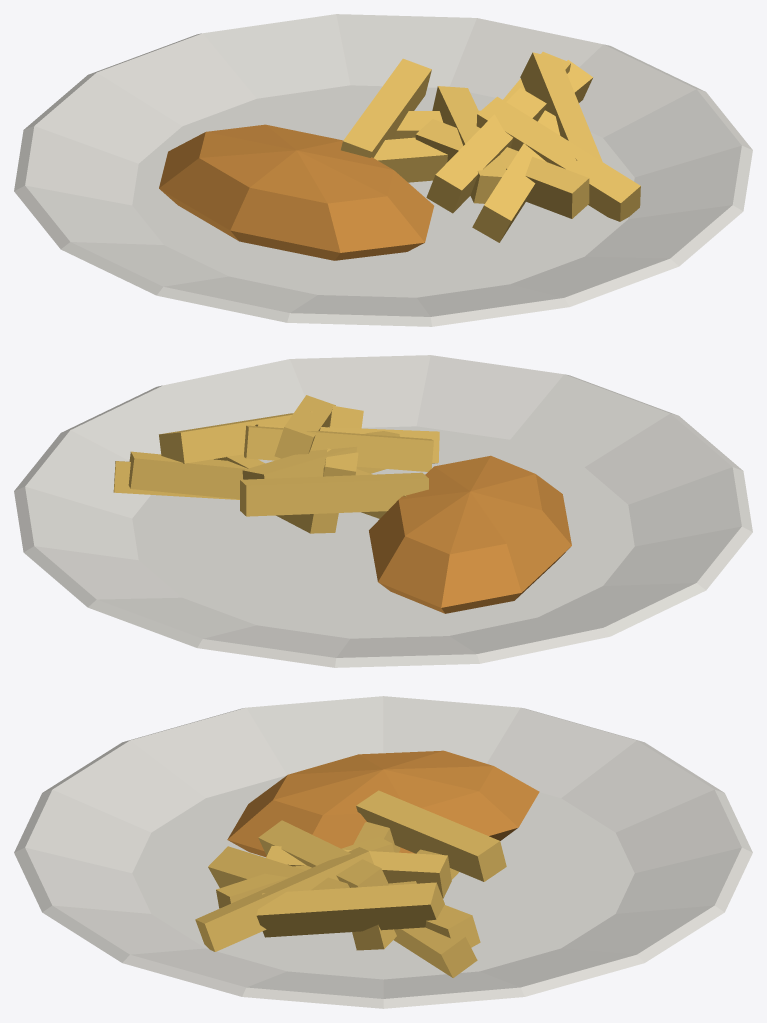
Rendered from m-chicken-chips.glb.
3 renders of one model, top to bottom at view 1: azimuth 30°, elevation 25°; view 2: azimuth 150°, elevation 25°; view 3: azimuth 270°, elevation 25°, orthographic.
Parts seen in each view (by area): view 1: m_chicken_chips; view 2: m_chicken_chips; view 3: m_chicken_chips.
Part boxes in pixels (x1,y1,x2,y2): m_chicken_chips: (14,14,752,326); m_chicken_chips: (14,355,752,667); m_chicken_chips: (14,696,752,1008).
Size of the model in its own units: 0.26 by 0.0415 by 0.26.
